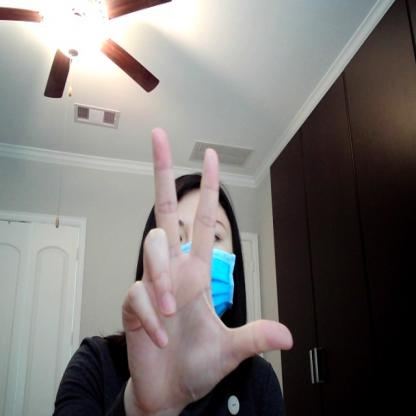three: (125, 122, 298, 408)
